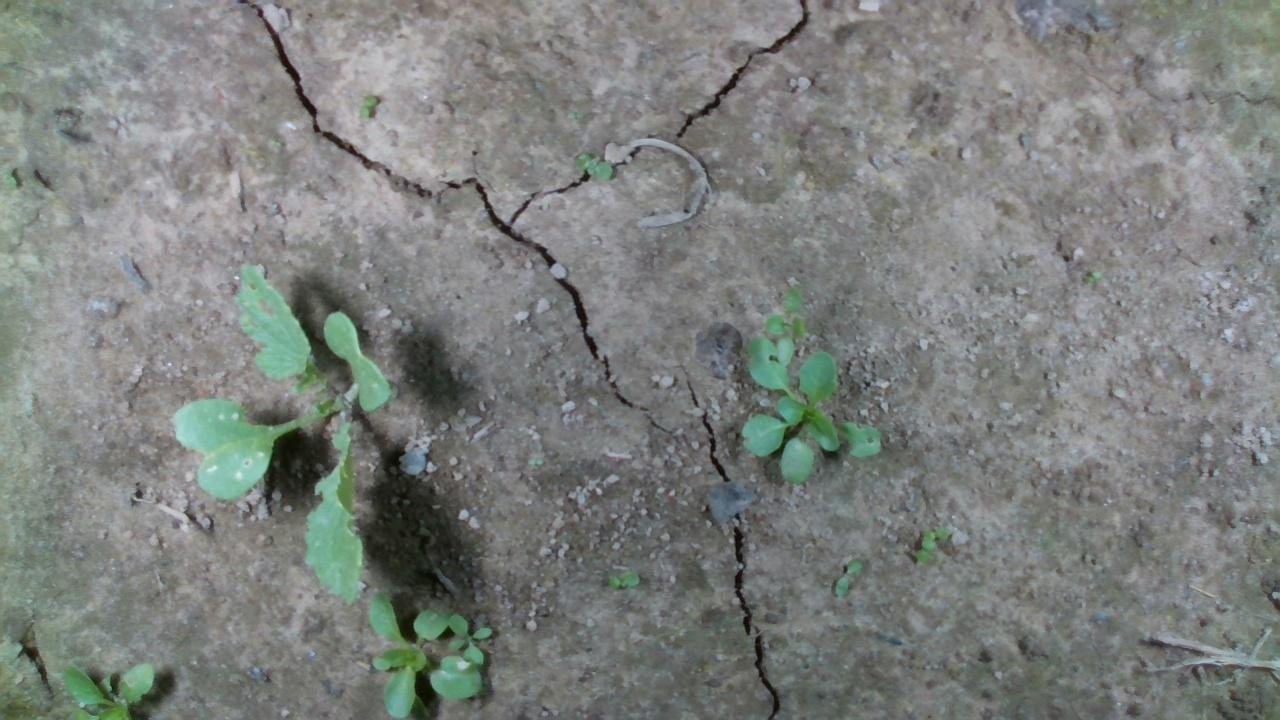weed: (832, 553, 864, 599), (571, 149, 613, 180), (604, 570, 641, 590), (357, 91, 380, 121)
